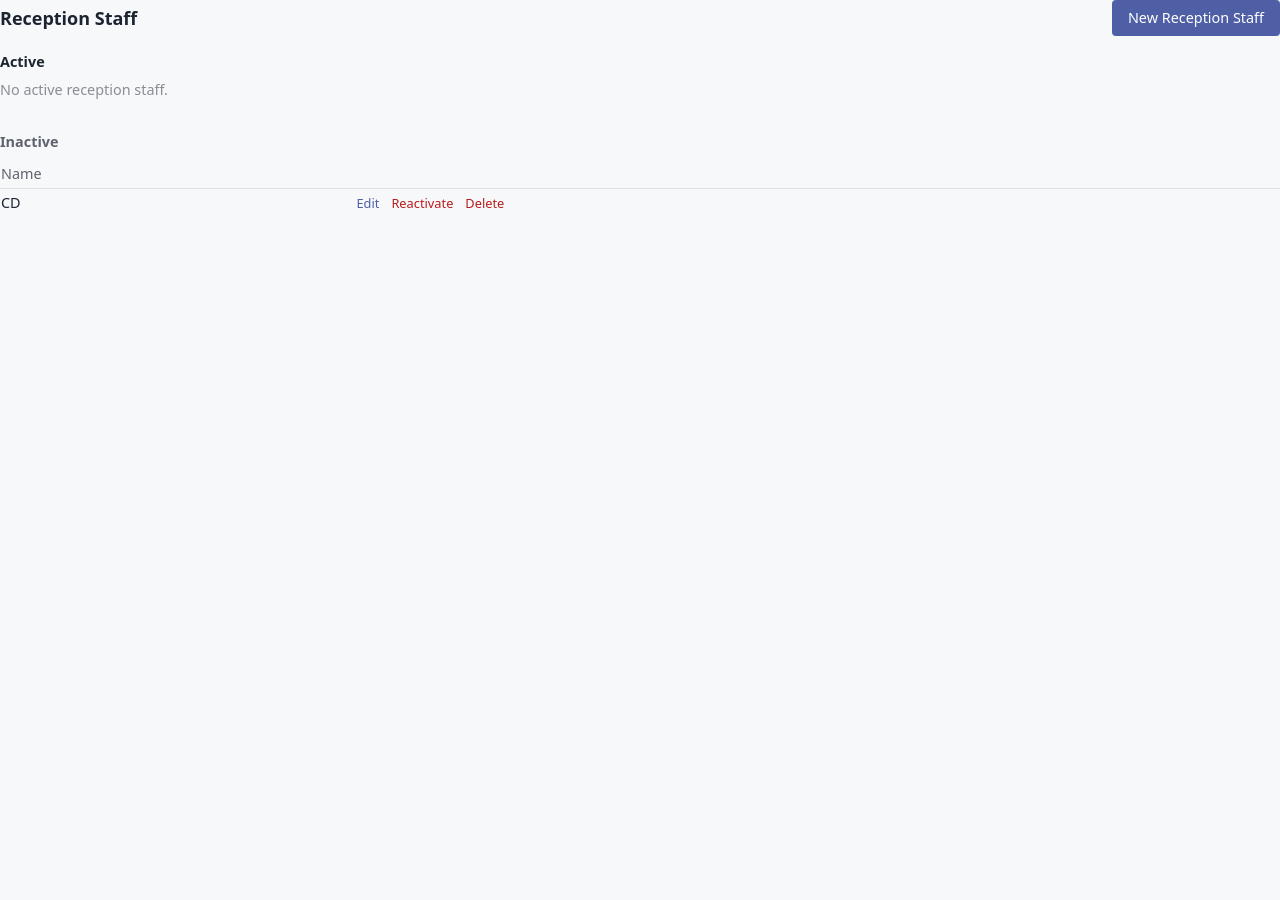
Test: ReceptionStaffPage › Delete opens the confirm dialog and the purge removes the row
Expected: the text "CD" is shown, [0,188,356,217]
Click the button "Delete" at (485, 203), box [465,195,504,211]
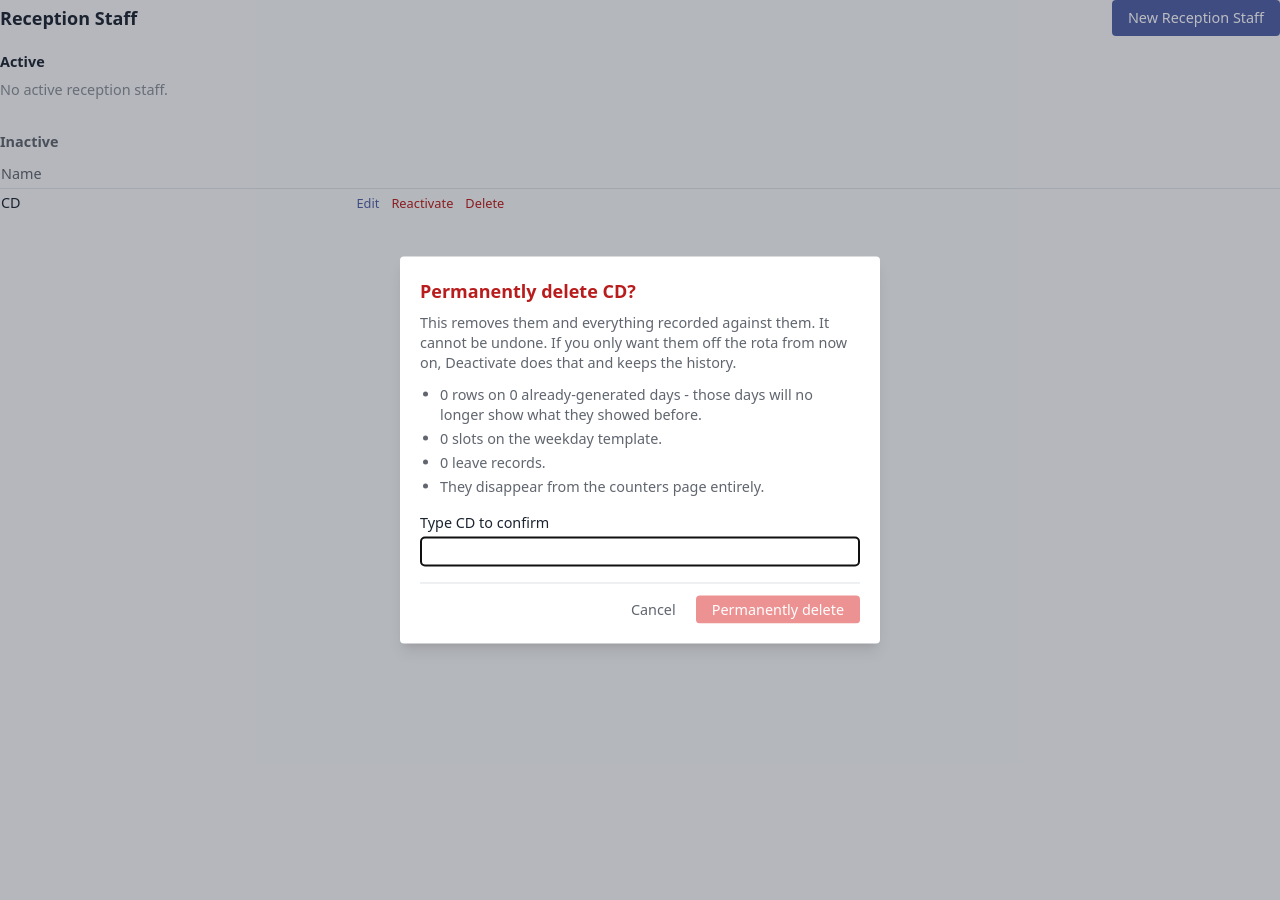
Type "CD" into the field labelled "Type CD to confirm" at (640, 552), box [420,536,860,566]
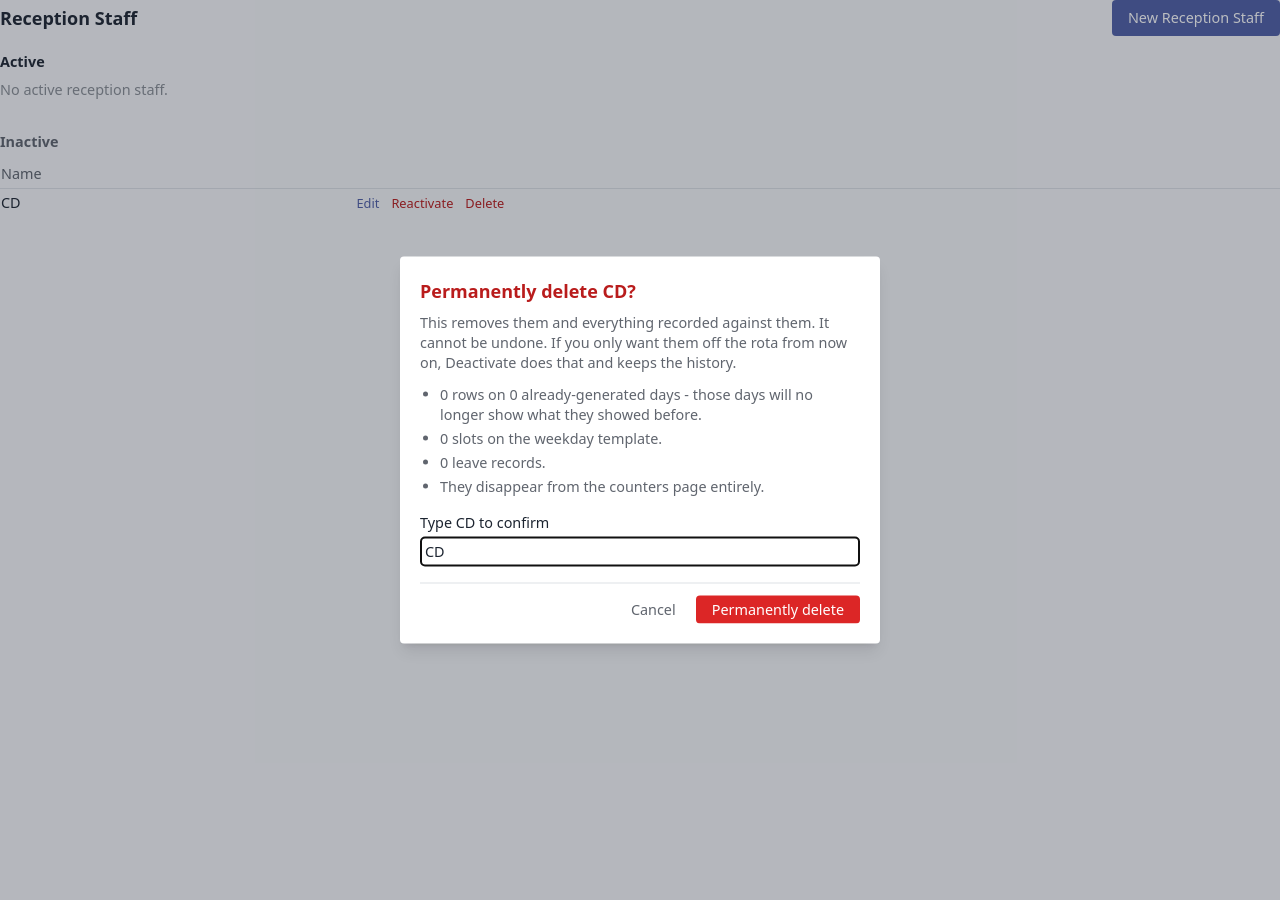
Click the button "Permanently delete" at (778, 610), box [696,596,860,624]
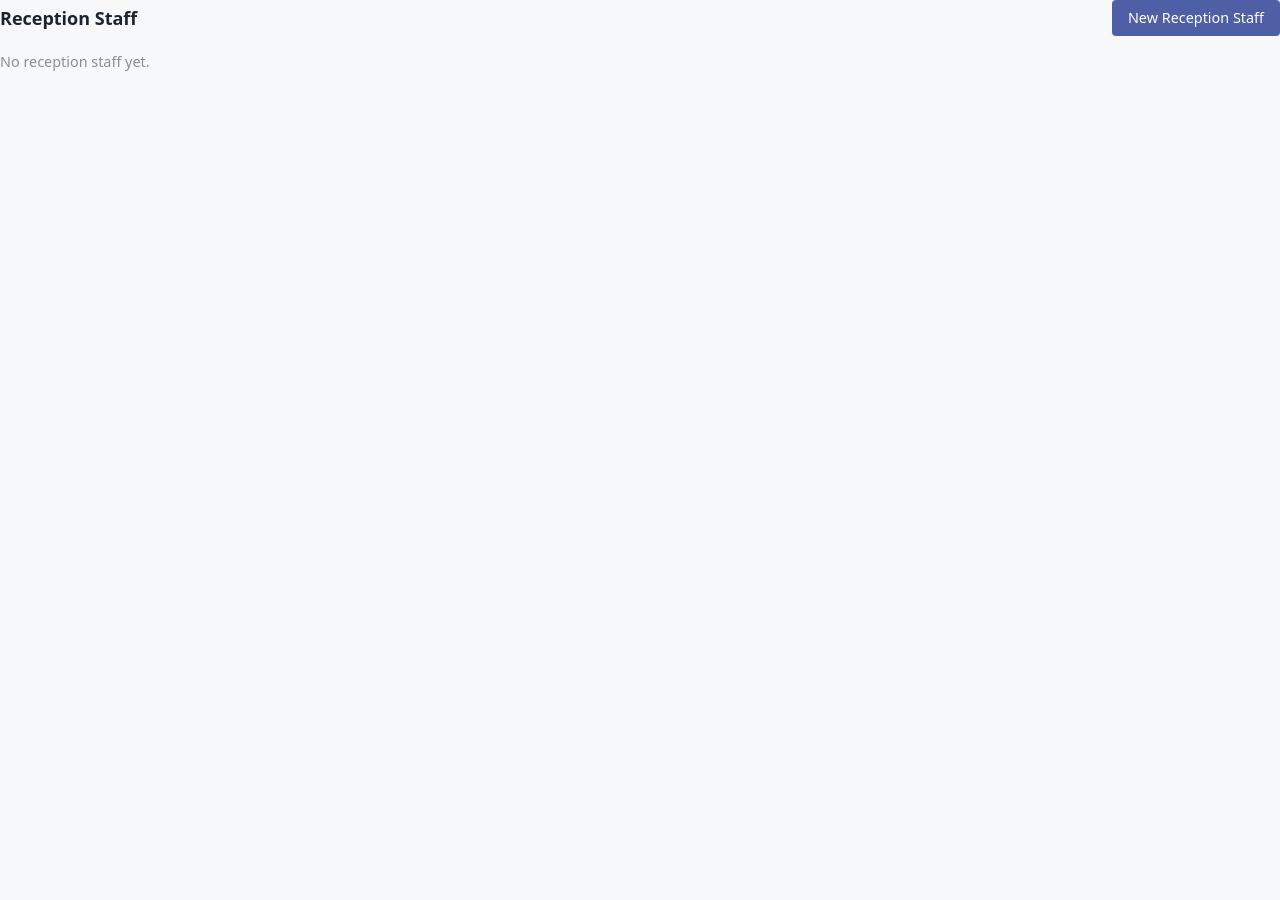
Expected: the text "No reception staff yet." is shown, [0,52,150,71]
